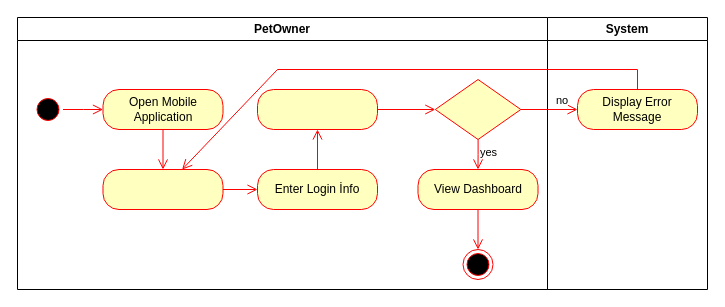
The diagram is 725 pixels wide and 307 high, and some of its shapes have lost their labels. Each missing label, with the centre of its shape:
Click on "Login": pixel 317 109
Is Information Valid: pixel 477 109
View Login Page: pixel 162 189
